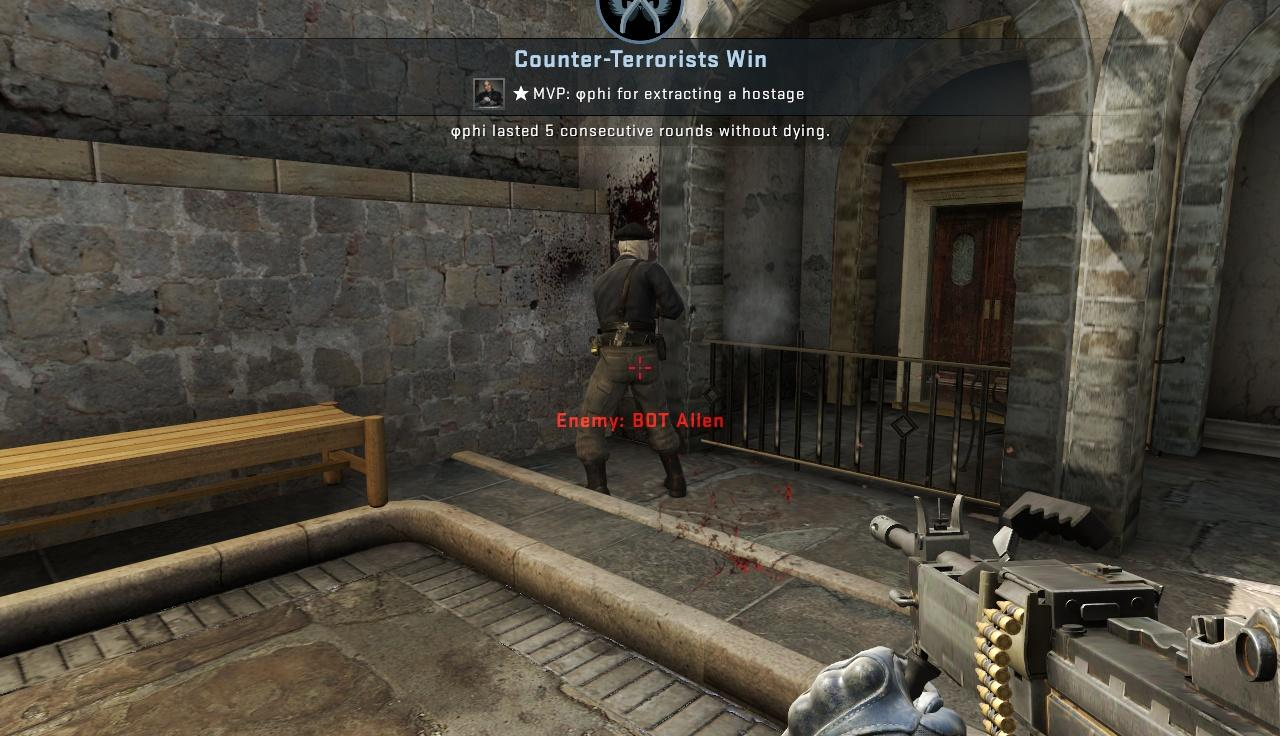rifle: (863, 487, 1280, 736)
tt: (593, 220, 676, 493)
tthead: (617, 223, 650, 260)
